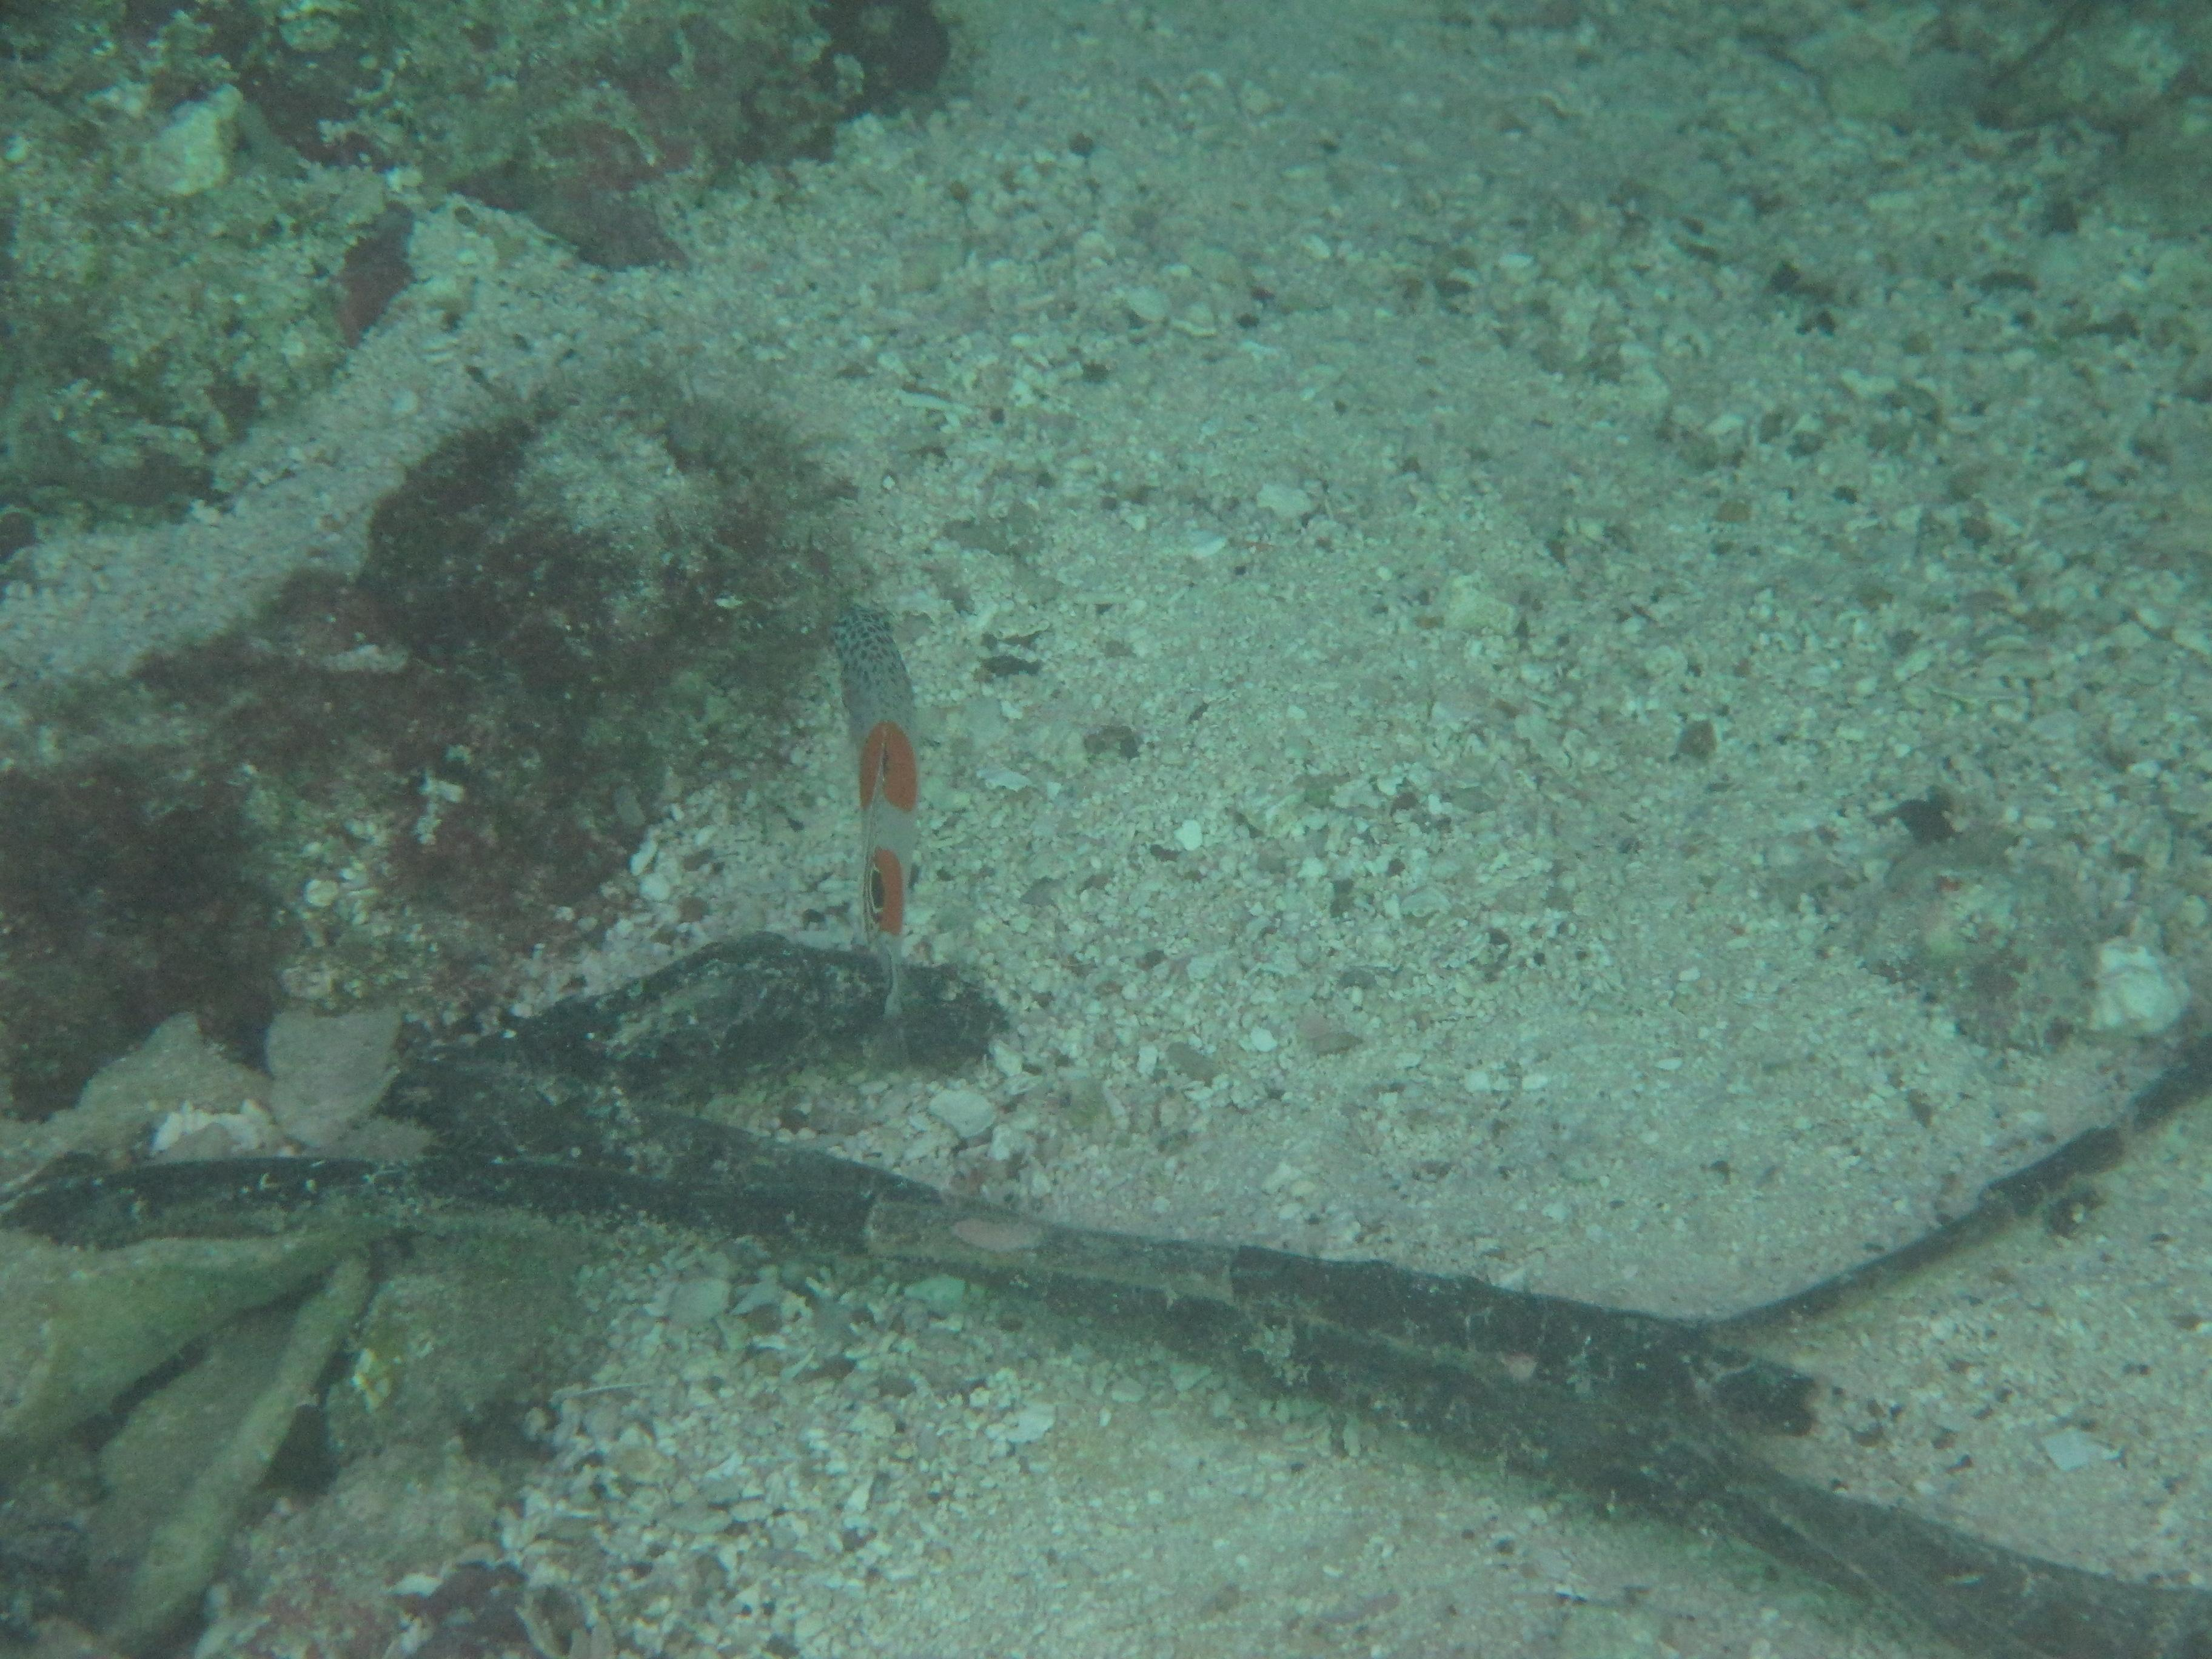Fish: (803, 577, 954, 1009)
